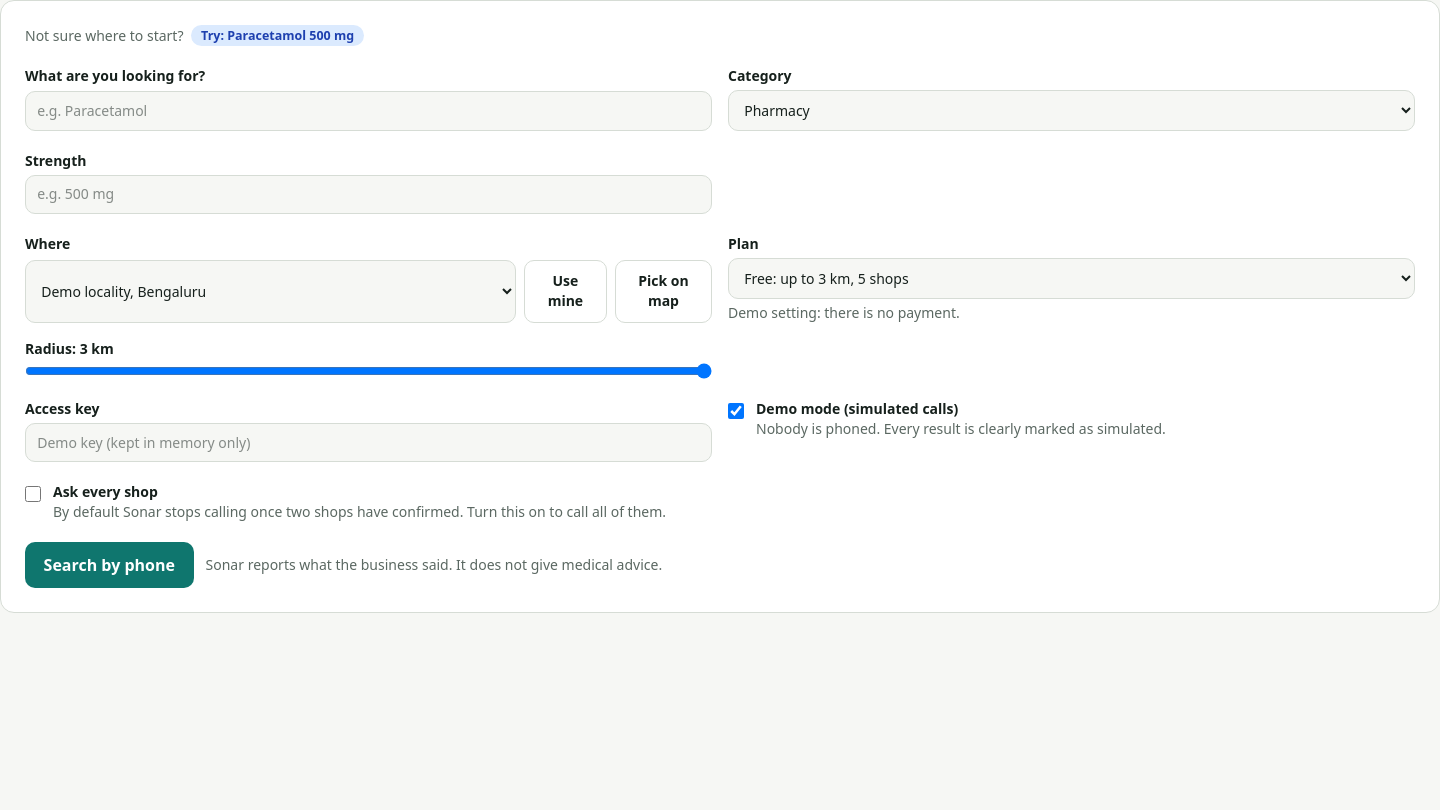
Test: SearchForm › searches around the user when they choose it, and lets them go back to the demo locality
The width and height of the screenshot is (1440, 810).
Later steps or results of the test are not shown.
In the field labelled "What are you looking for?": coordinates (368, 111) [25,90,712,131], type "X"
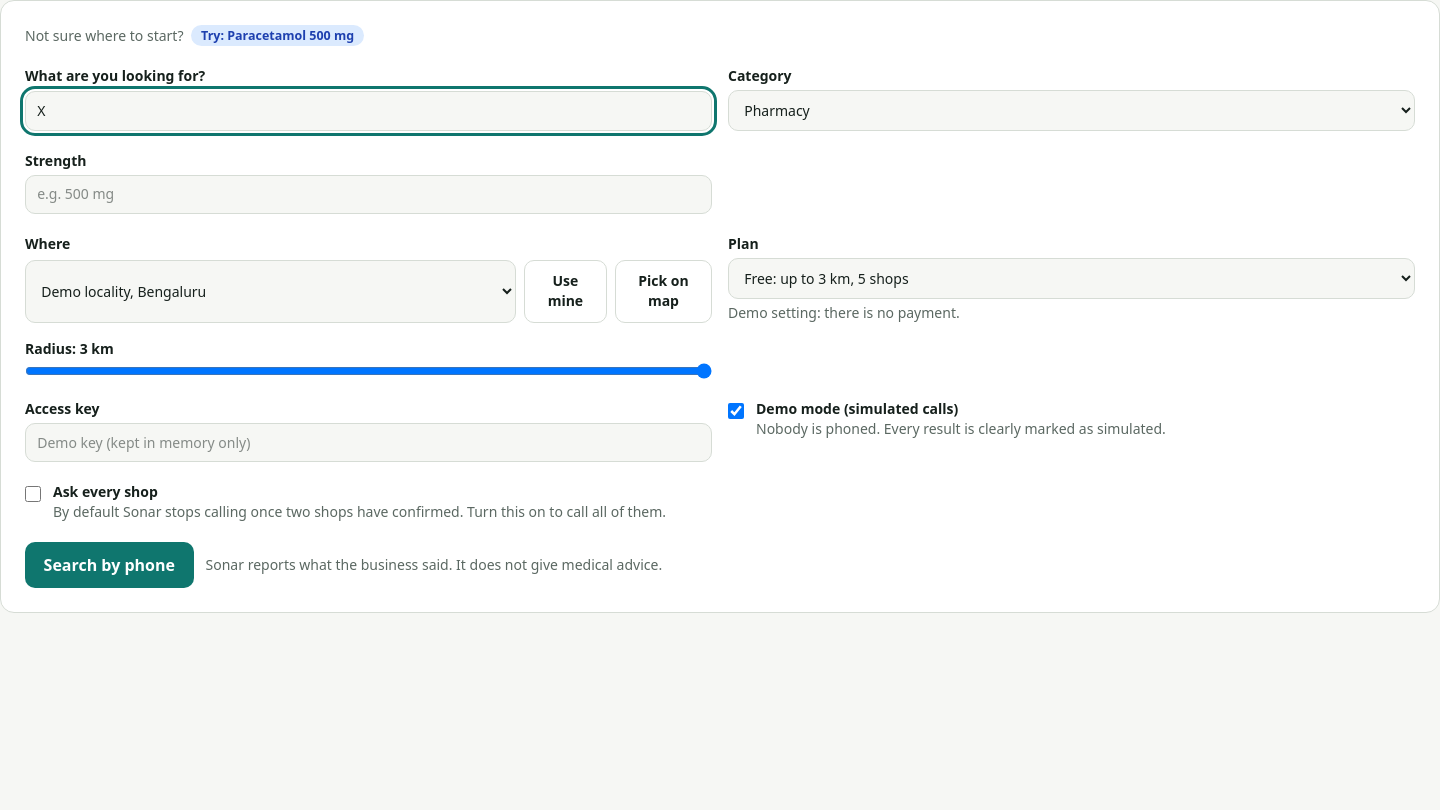
In the field labelled "strength": coordinates (368, 194) [25,175,712,214], type "5"
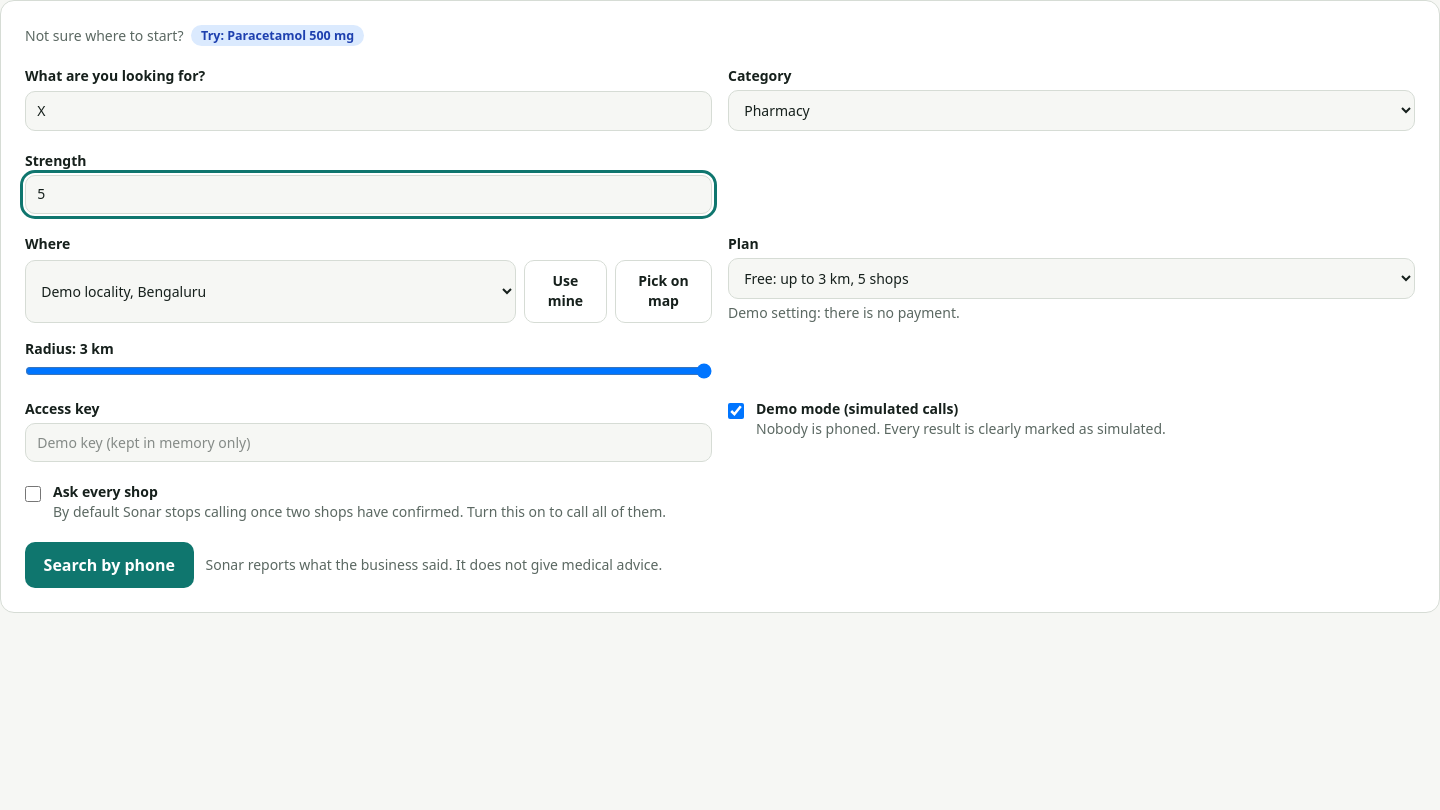
In the password field labelled "Access key": coordinates (368, 443) [25,423,712,462], type "k"
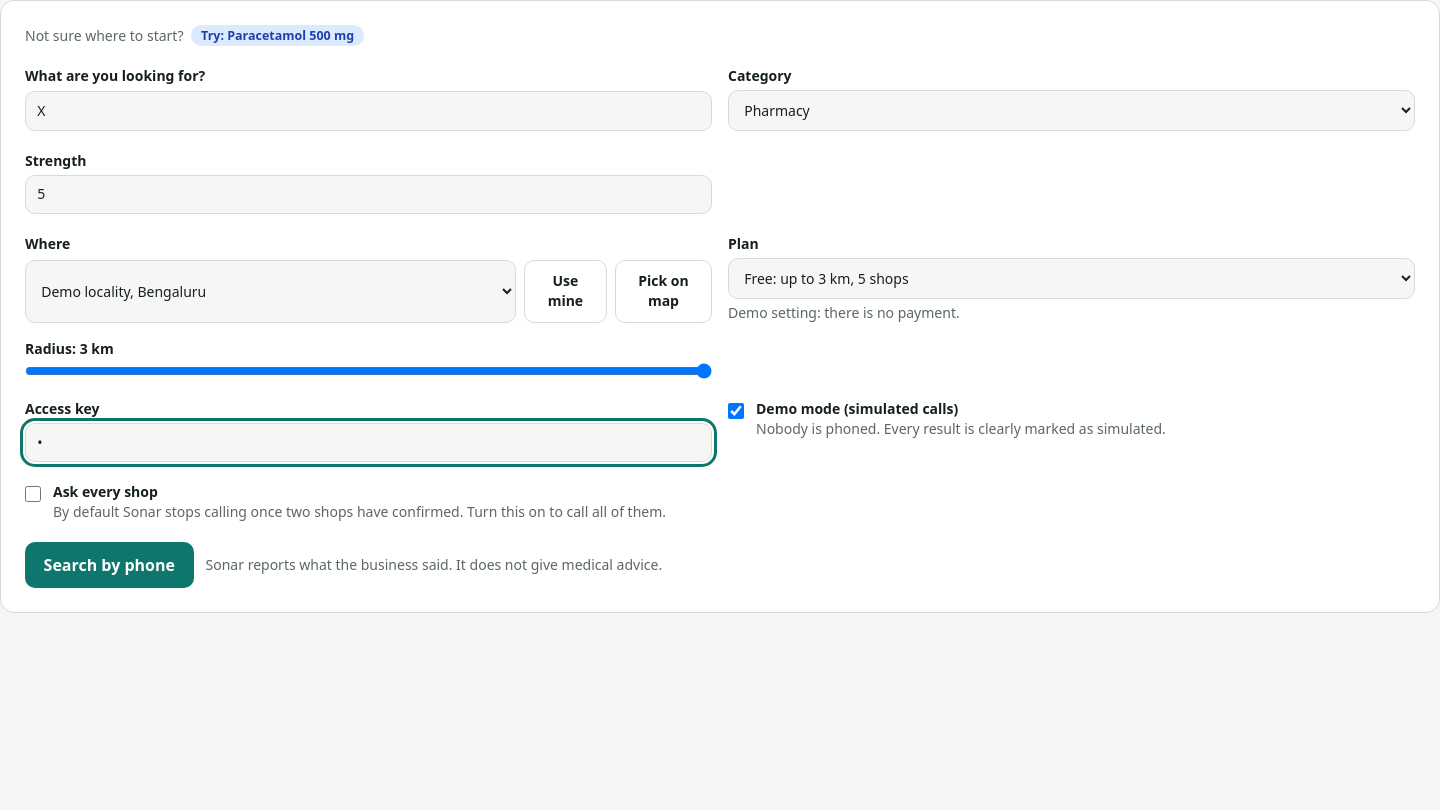
Click the button "Use mine": coordinates (565, 291) [524,260,607,323]
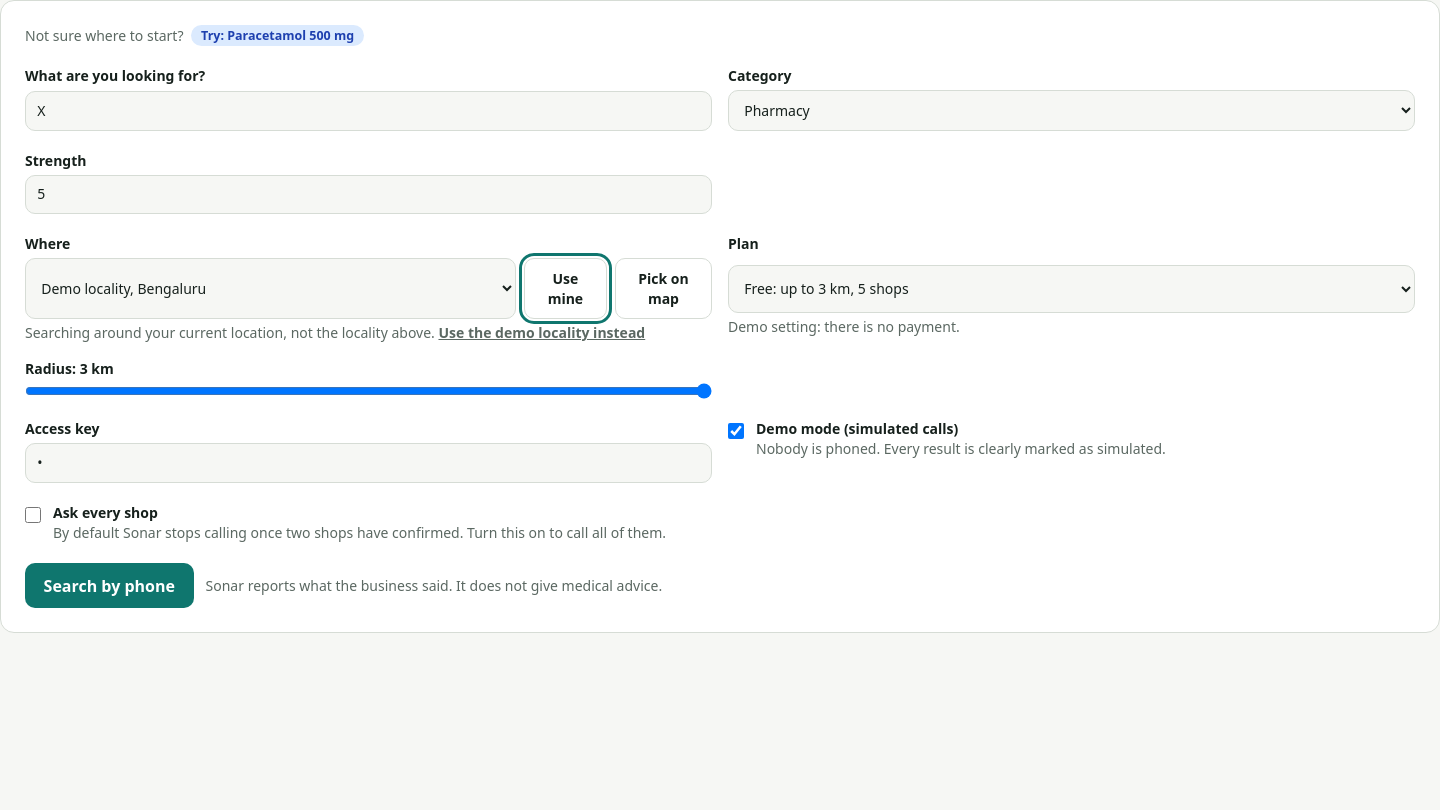
Expected: the dropdown labelled "Where" is disabled, [25,258,516,319]
Expected: the text "not the locality above" is shown, [283,323,435,342]
Click the button "Search by phone": coordinates (109, 586) [25,563,194,608]
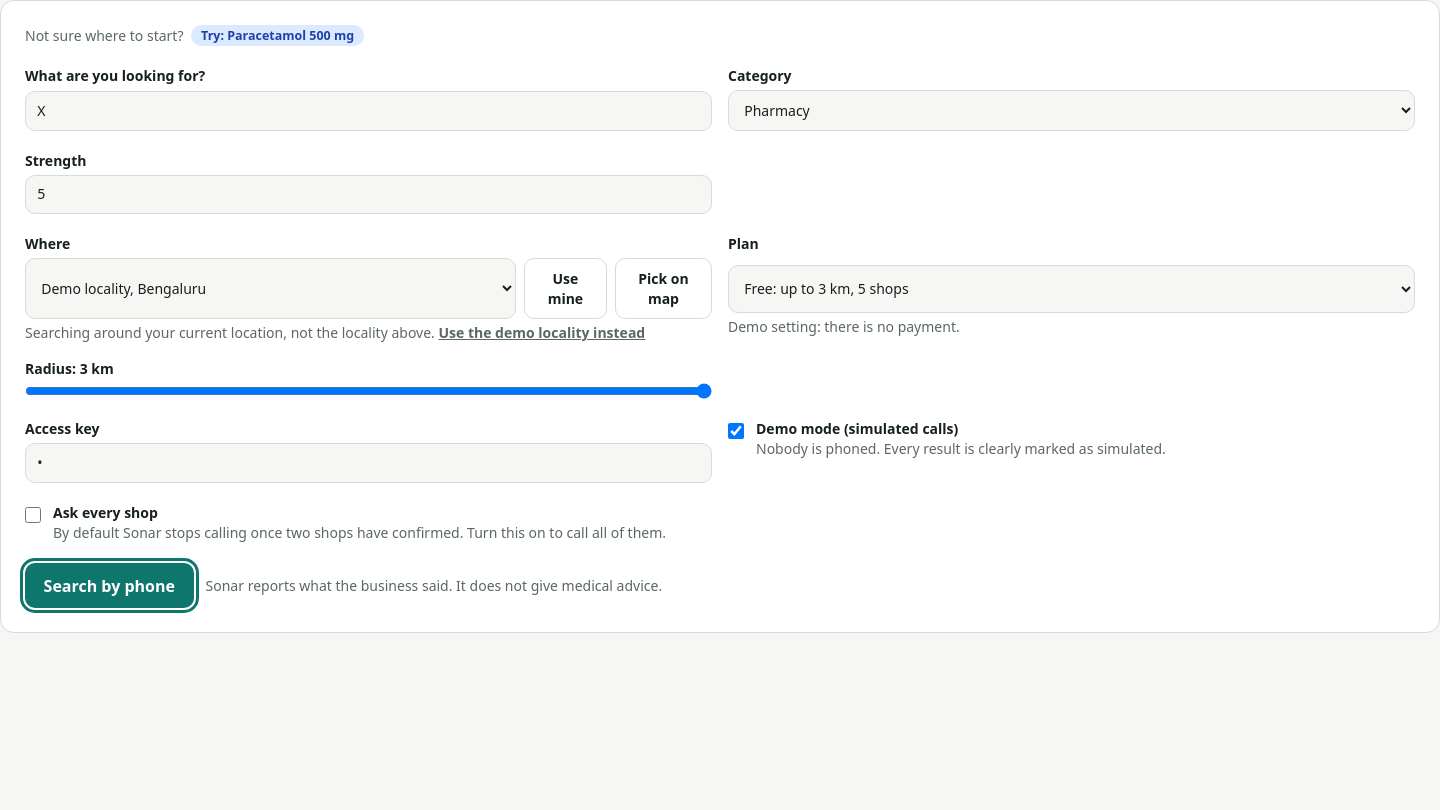
Click the button "Use the demo locality instead": coordinates (542, 333) [438,323,645,343]
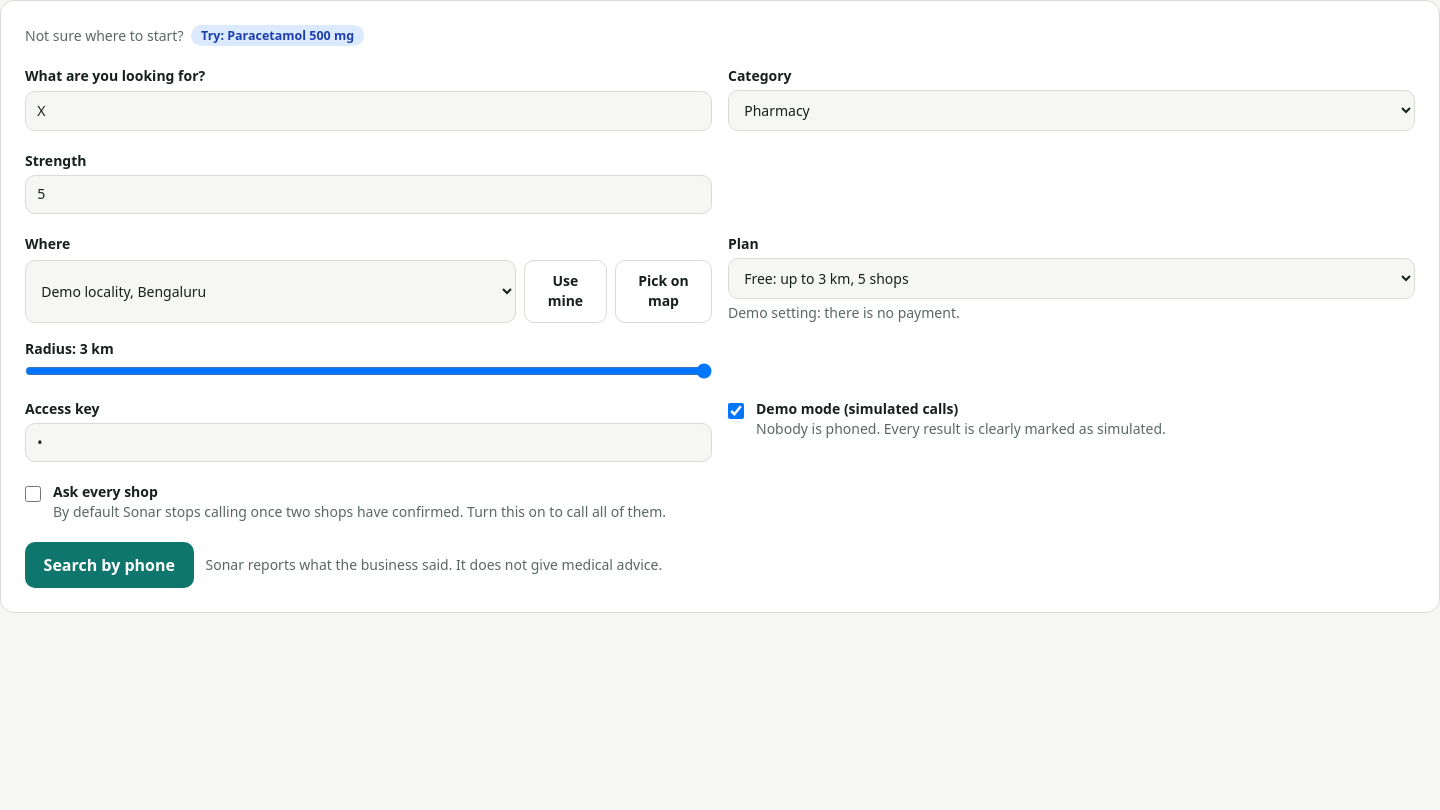
Expected: the dropdown labelled "Where" is enabled, [25,260,516,323]
